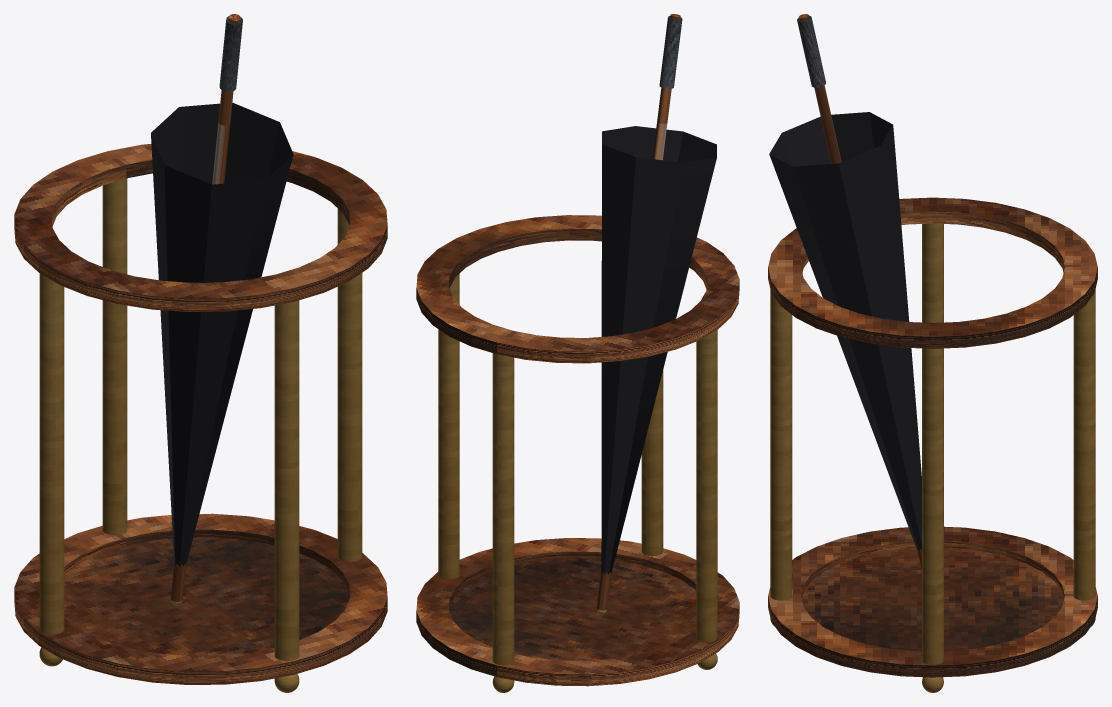
File: umbrella_stand.glb
3 views of the same model, side by side, from view 1: azimuth 30°, elevation 25°; view 2: azimuth 150°, elevation 25°; view 3: azimuth 270°, elevation 25° (orthographic). The views are drawn at different scales.
Visible parts, largest first — view 1: Cylinder, Cylinder.005, Cylinder.006, Cylinder.004, Cylinder.003, Cylinder.001, Cylinder.002; view 2: Cylinder, Cylinder.005, Cylinder.006, Cylinder.001, Cylinder.003, Cylinder.002, Cylinder.004; view 3: Cylinder, Cylinder.005, Cylinder.006, Cylinder.002, Cylinder.001, Cylinder.004, Cylinder.003.
Boxes of the visible parts, <box> form: Cylinder: <box>14,513,387,684</box>; Cylinder.005: <box>151,14,293,605</box>; Cylinder.006: <box>14,144,387,311</box>; Cylinder.004: <box>274,300,299,660</box>; Cylinder.003: <box>39,273,64,634</box>; Cylinder.001: <box>102,178,127,534</box>; Cylinder.002: <box>337,208,362,561</box>; Cylinder: <box>416,538,739,686</box>; Cylinder.005: <box>596,14,716,614</box>; Cylinder.006: <box>416,215,739,363</box>; Cylinder.001: <box>492,353,514,665</box>; Cylinder.003: <box>696,330,717,642</box>; Cylinder.002: <box>438,274,459,579</box>; Cylinder.004: <box>641,370,663,556</box>; Cylinder: <box>768,526,1097,677</box>; Cylinder.005: <box>769,14,921,570</box>; Cylinder.006: <box>768,197,1097,348</box>; Cylinder.002: <box>922,348,943,664</box>; Cylinder.001: <box>1073,289,1095,600</box>; Cylinder.004: <box>770,289,792,600</box>; Cylinder.003: <box>922,223,943,322</box>.
Bounding box in the file's own units: 0.75 × 1.49 × 0.75.
Materials: 14 (14 with a texture image).
